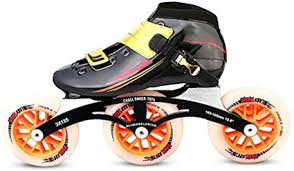roller_blate: (4, 3, 292, 167)
